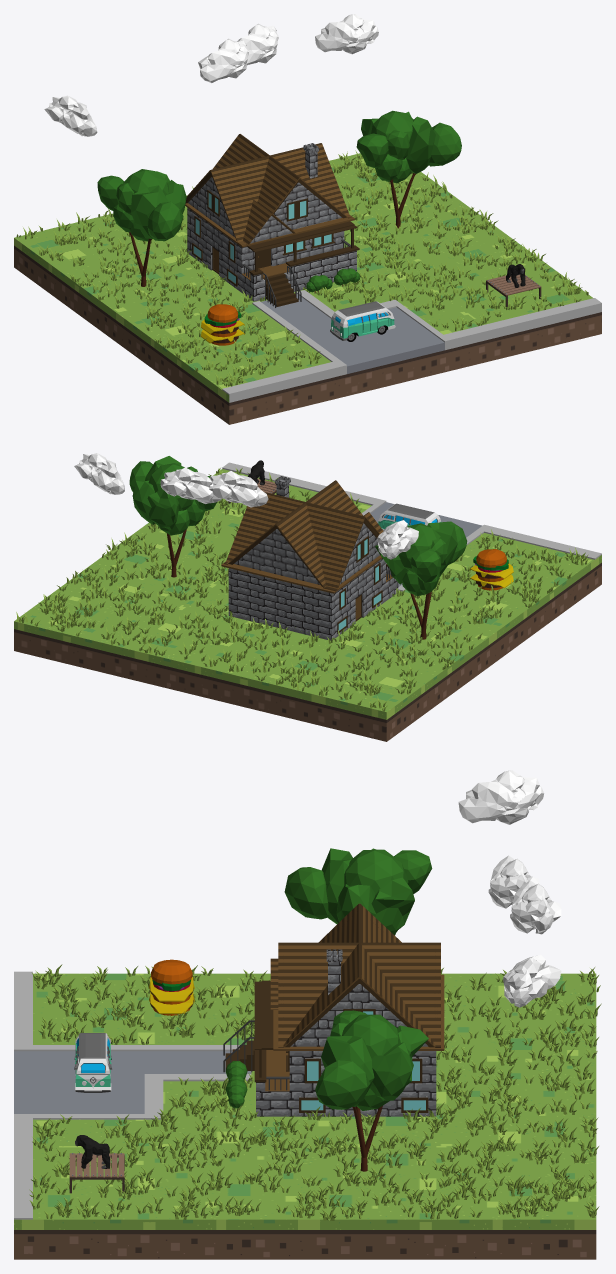
3 renders of one model, top to bottom at view 1: azimuth 30°, elevation 25°; view 2: azimuth 150°, elevation 25°; view 3: azimuth 270°, elevation 25°, orthographic. The views are drawn at different scales.
Parts seen in each view (by area): view 1: Cube.006, Cube.586, Circle.012_Grass_0.192, Cube.007, tree, tree.001, VEHICLES_VAN, OBJRANDOM_HAMBURGER, Cube.009; view 2: Cube.006, Cube.586, Circle.012_Grass_0.192, Cube.007, tree.001, tree, OBJRANDOM_HAMBURGER, VEHICLES_VAN; view 3: Cube.006, Circle.012_Grass_0.192, Cube.586, tree, Cube.007, tree.001, OBJRANDOM_HAMBURGER, VEHICLES_VAN, Cube.009, ANIMAL_GORILA.
Boxes of the visible parts, x1,y1,x2,y2 form: Cube.006: [14, 153, 601, 424]; Cube.586: [185, 134, 359, 307]; Circle.012_Grass_0.192: [16, 150, 588, 386]; Cube.007: [44, 14, 378, 136]; tree: [356, 110, 461, 228]; tree.001: [97, 169, 186, 286]; VEHICLES_VAN: [330, 301, 395, 341]; OBJRANDOM_HAMBURGER: [201, 304, 244, 345]; Cube.009: [486, 274, 541, 306]; Cube.006: [14, 462, 601, 741]; Cube.586: [221, 476, 398, 640]; Circle.012_Grass_0.192: [16, 468, 588, 711]; Cube.007: [74, 453, 418, 559]; tree.001: [375, 521, 467, 639]; tree: [129, 456, 216, 577]; OBJRANDOM_HAMBURGER: [469, 549, 513, 590]; VEHICLES_VAN: [378, 503, 441, 530]; Cube.006: [14, 971, 596, 1259]; Circle.012_Grass_0.192: [29, 964, 601, 1220]; Cube.586: [223, 903, 444, 1116]; tree: [315, 1010, 428, 1171]; Cube.007: [458, 770, 561, 1007]; tree.001: [284, 848, 432, 935]; OBJRANDOM_HAMBURGER: [149, 959, 194, 1015]; VEHICLES_VAN: [74, 1033, 112, 1092]; Cube.009: [69, 1153, 124, 1193]; ANIMAL_GORILA: [75, 1135, 109, 1168].
Size of the model in its own units: 4071 by 2153 by 4040.
Materials: 37 (4 with a texture image).
